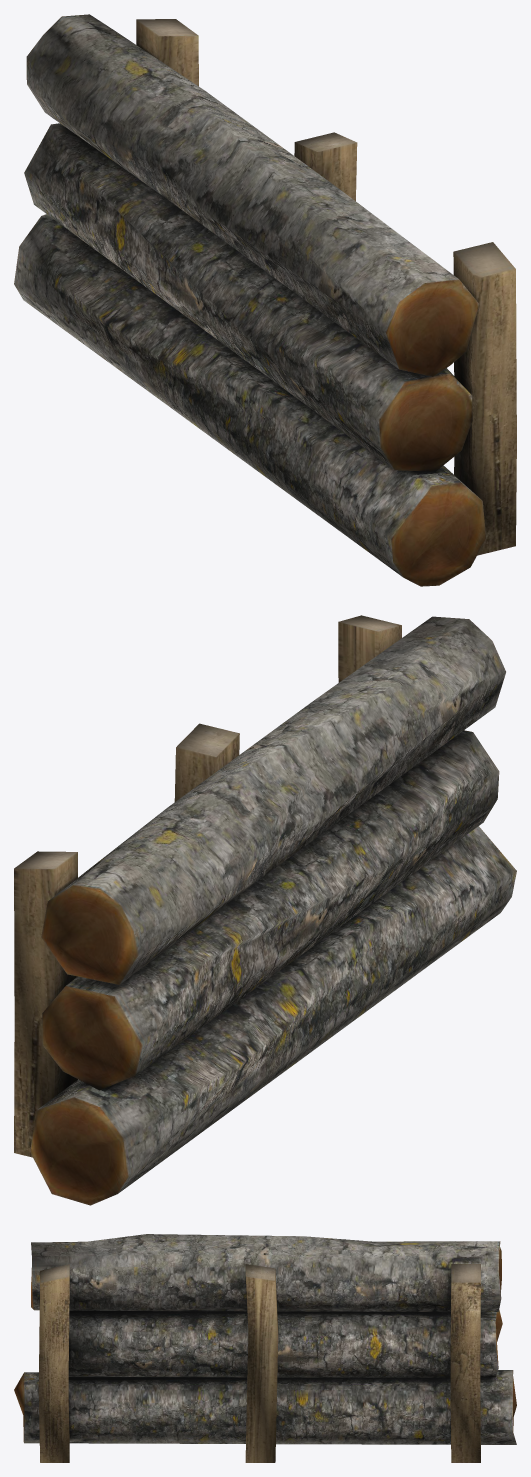
File: logfence1.fbx
3 renders of one model, top to bottom at view 1: azimuth 30°, elevation 25°; view 2: azimuth 150°, elevation 25°; view 3: azimuth 270°, elevation 25°, orthographic. The views are drawn at different scales.
Parts seen in each view (by area): view 1: Cube; view 2: Cube; view 3: Cube.
Boxes of the visible parts, left/top/right/bottom form: Cube: left=14, top=14, right=516, bottom=586; Cube: left=14, top=615, right=516, bottom=1205; Cube: left=14, top=1234, right=516, bottom=1462.
Bounding box in the file's own units: 163 × 324 × 732.
